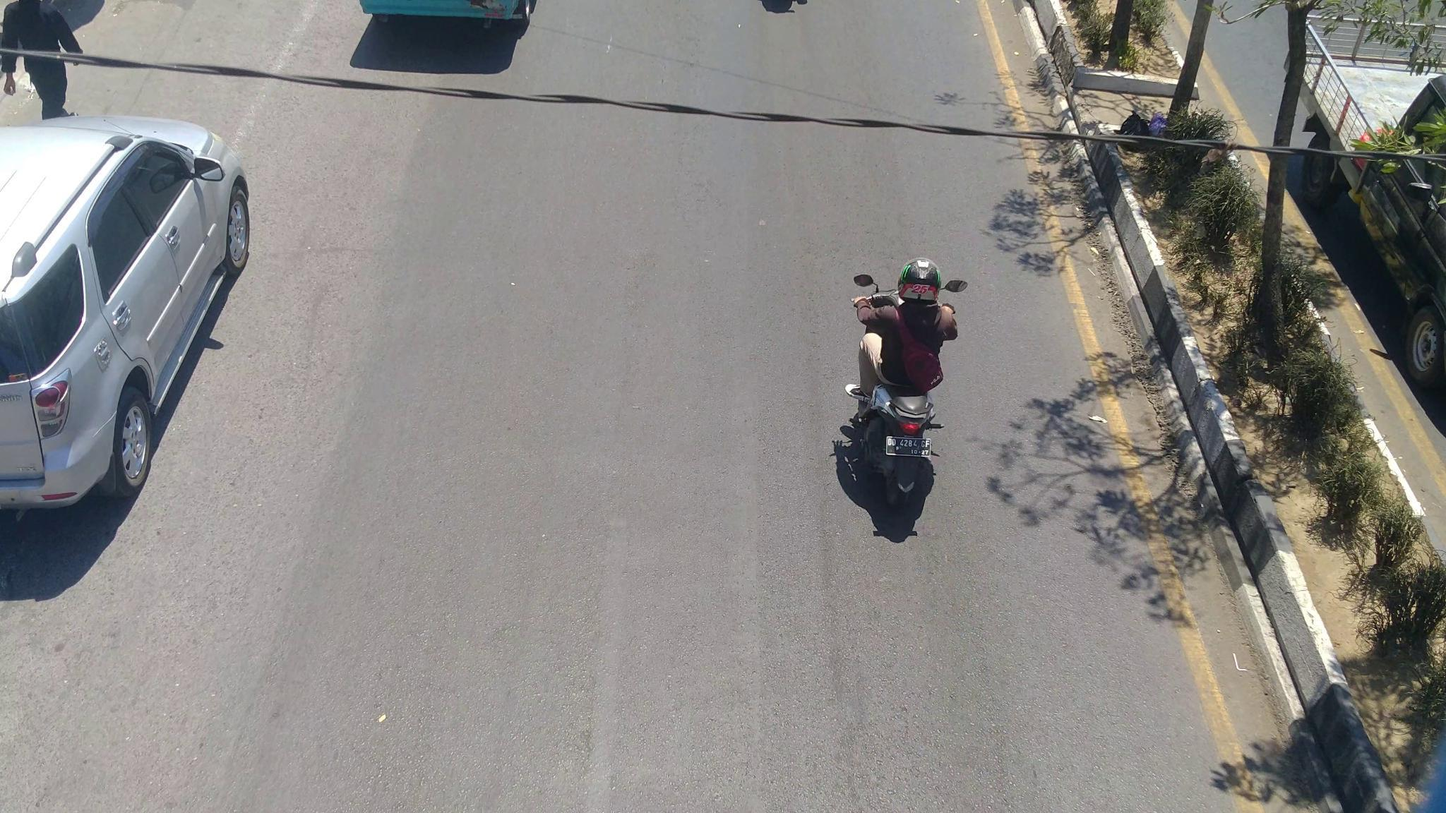Helmet: (892, 254, 950, 312)
bike: (850, 268, 970, 510)
number-plate: (887, 436, 929, 457)
rider: (848, 254, 958, 403)
